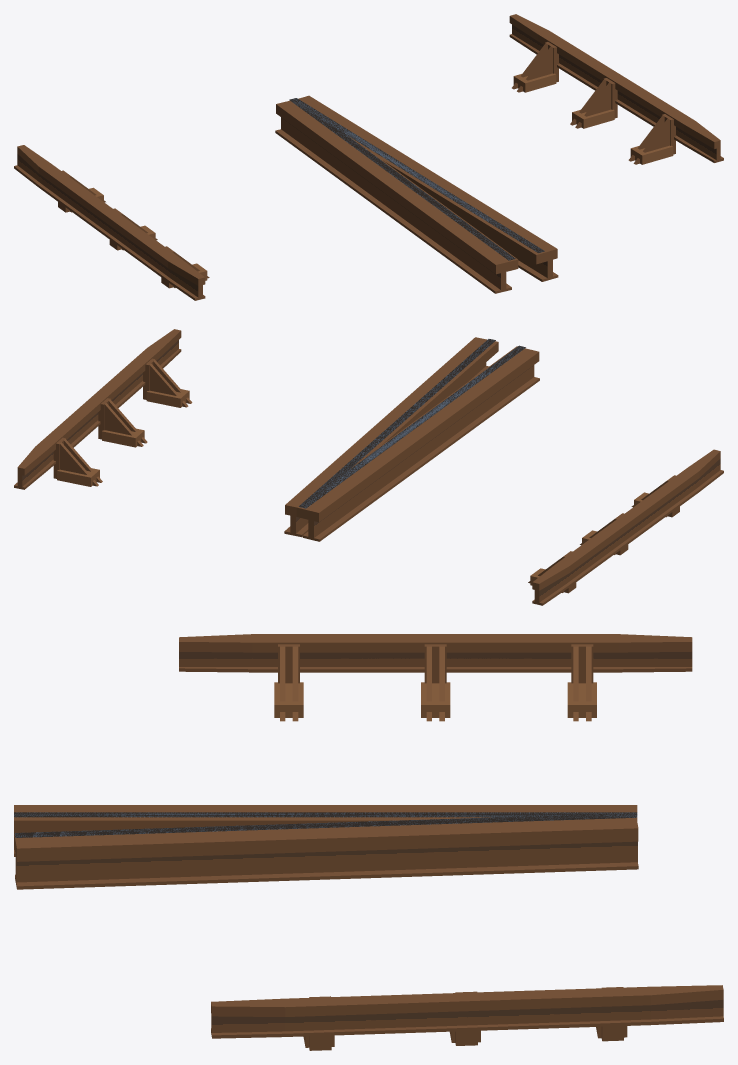
File: frog_13.obj
3 renders of one model, top to bottom at view 1: azimuth 30°, elevation 25°; view 2: azimuth 150°, elevation 25°; view 3: azimuth 270°, elevation 25°, orthographic. The views are drawn at different scales.
Visible parts, largest first — view 1: cube; view 2: cube; view 3: cube.
Boxes of the visible parts, left/top/right/bottom form: cube: left=14, top=14, right=723, bottom=300; cube: left=14, top=329, right=723, bottom=605; cube: left=14, top=634, right=723, bottom=1050.
Size of the model in its own units: 3.02 by 0.1937 by 2.42.
